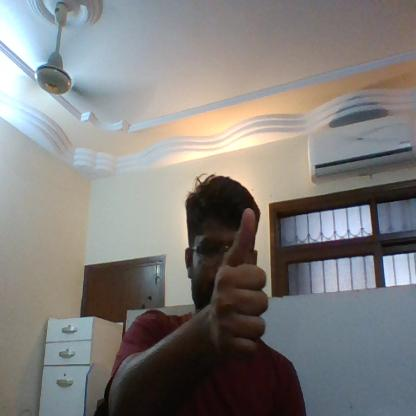thumbs-up: (209, 207, 275, 356)
